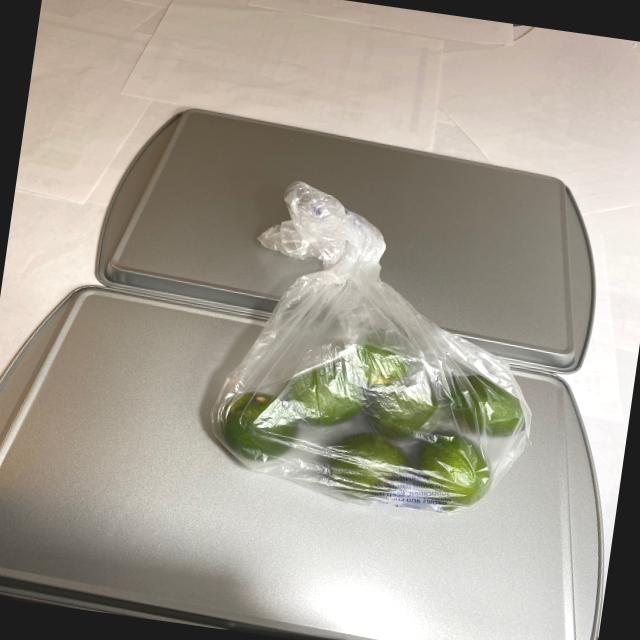lemon: (209, 321, 534, 517)
